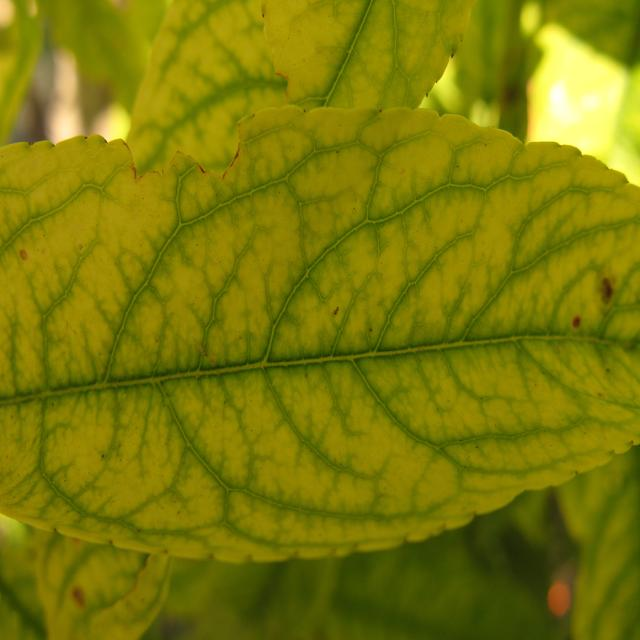Chlorosis: (0, 73, 640, 577)
